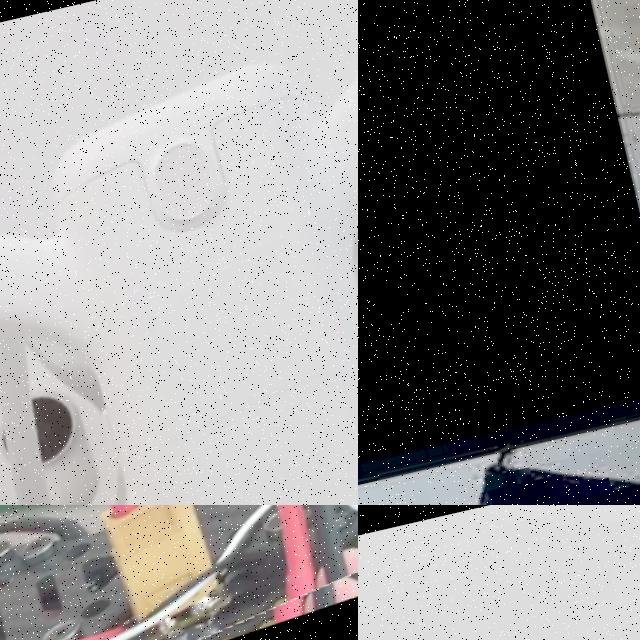drone: (0, 0, 358, 505), (0, 505, 358, 640)
